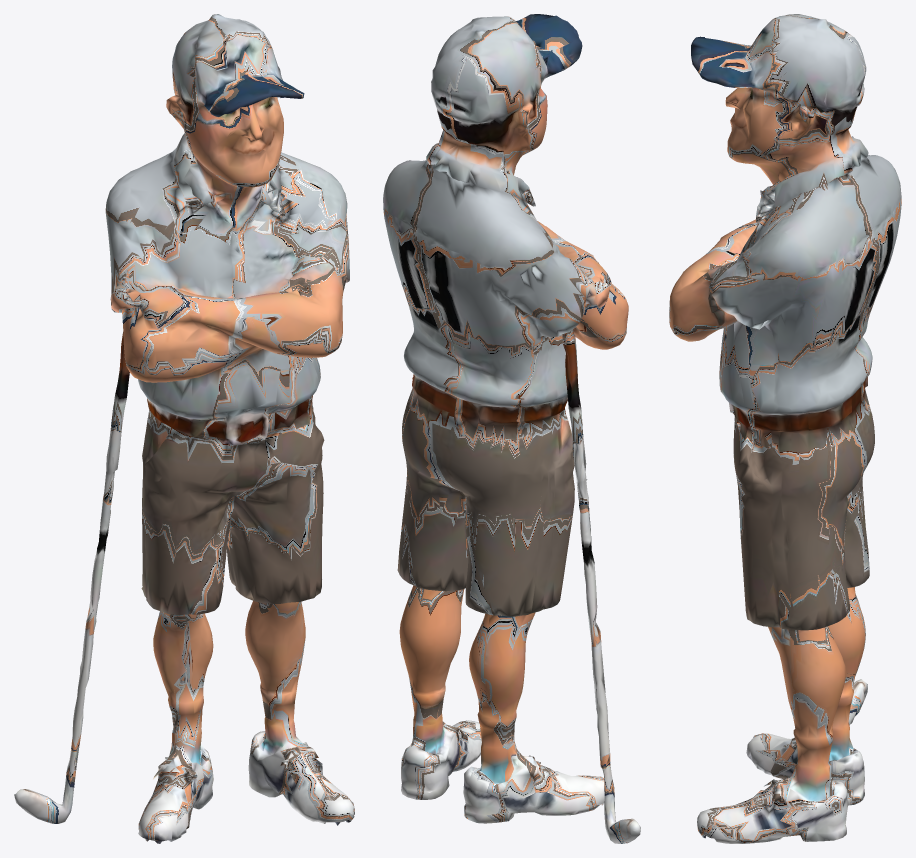
Rendered from golfer.glb.
The picture shows the model from 3 angles, left to right: view 1: azimuth 30°, elevation 25°; view 2: azimuth 150°, elevation 25°; view 3: azimuth 270°, elevation 25°; orthographic projection.
Size of the model in its own units: 0.7335 by 1.9 by 0.5086.
1 material, 1 textured.
